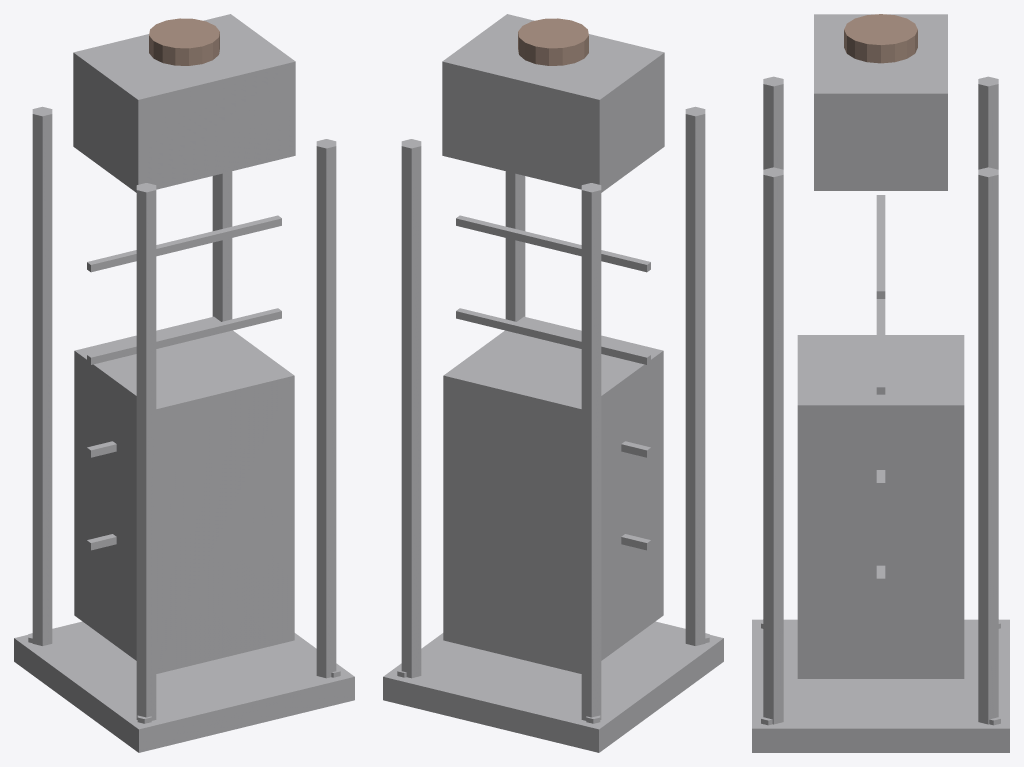
Rendered from elevator_epic.glb.
3 renders of one model, left to right at view 1: azimuth 30°, elevation 25°; view 2: azimuth 150°, elevation 25°; view 3: azimuth 270°, elevation 25°, orthographic. The views are drawn at different scales.
Parts seen in each view (by area): view 1: elevator, cage; view 2: elevator, cage; view 3: elevator, cage.
Part boxes in pixels (x1,y1,x2,y2): elevator: [14, 14, 354, 752]; cage: [74, 316, 294, 673]; elevator: [383, 14, 723, 752]; cage: [443, 316, 663, 673]; elevator: [752, 14, 1009, 752]; cage: [797, 335, 964, 678].
Bounding box in the file's own units: 1.54 × 4.4 × 1.54.
